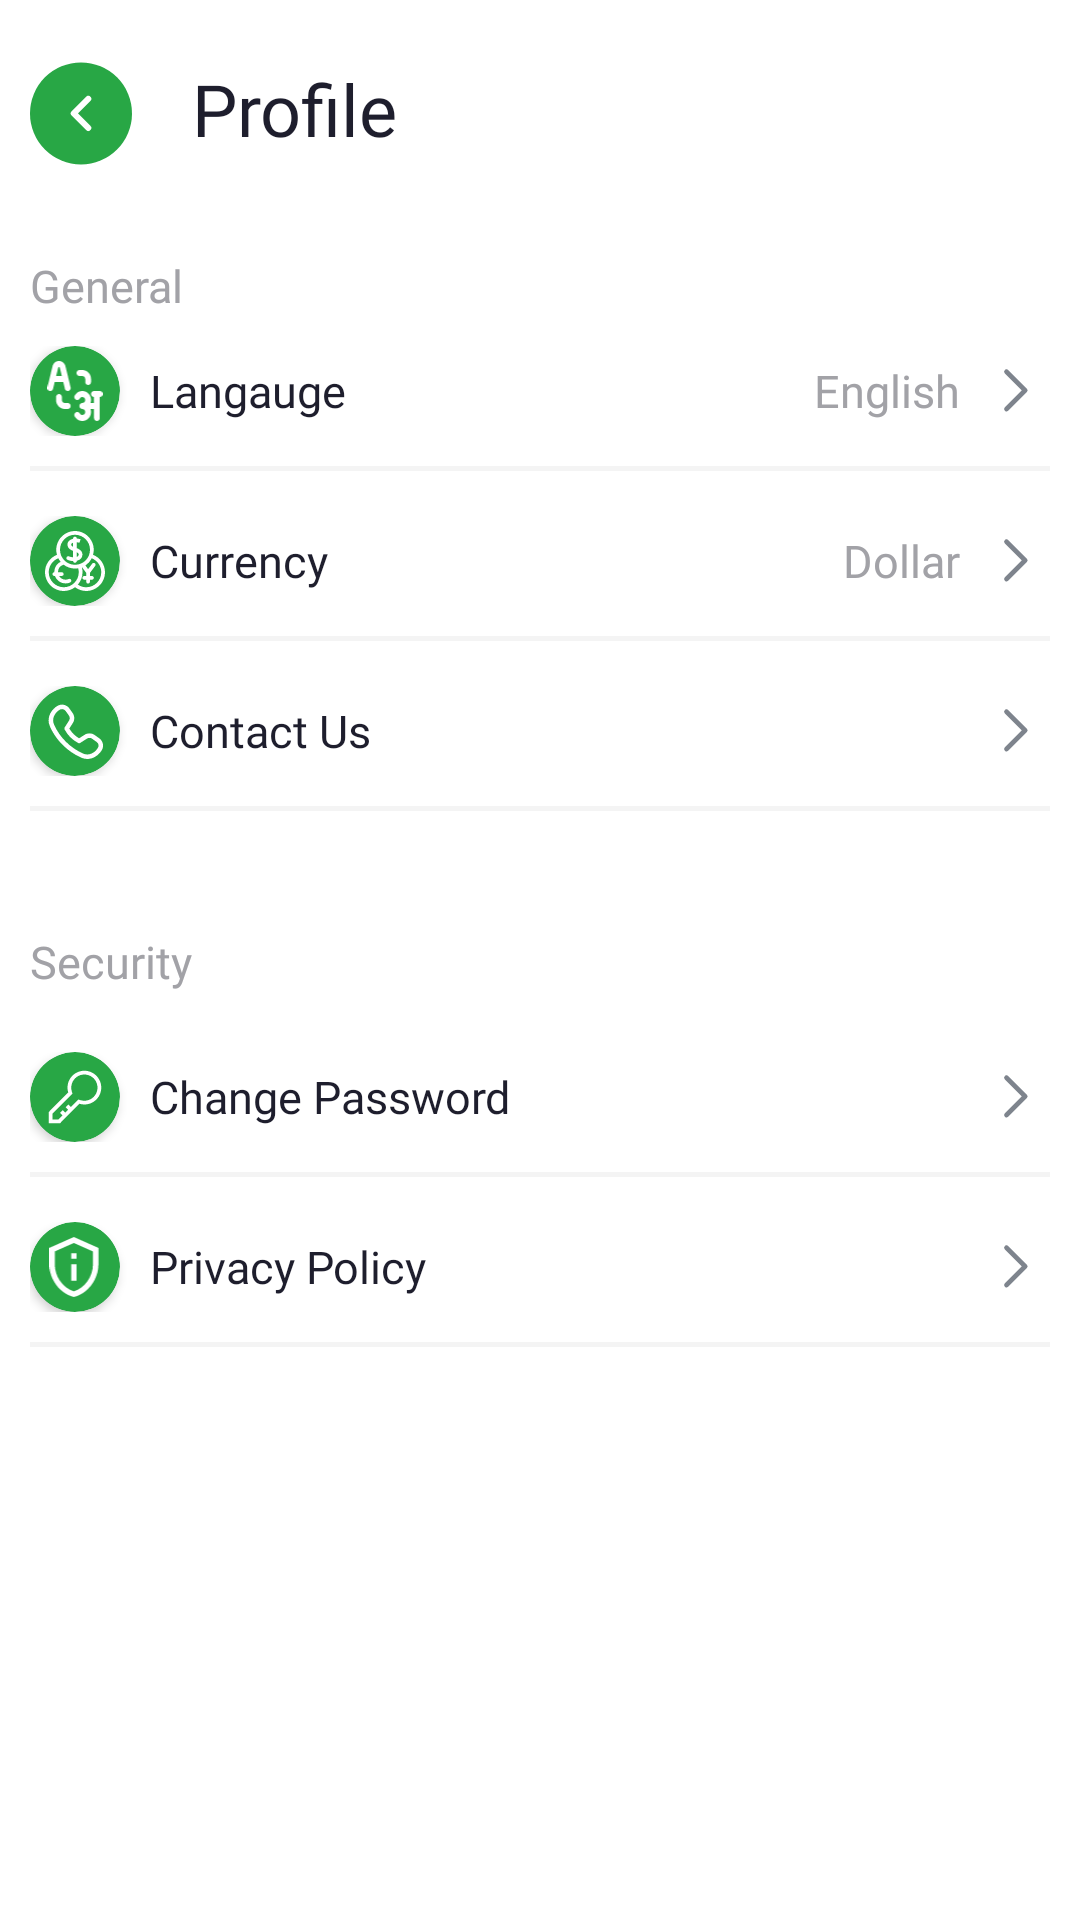

Icons on this 1080 x 1920 Android screen, each with its box as (x1, y1, x2, y2):
arrow: (1004, 369, 1028, 412), (1004, 539, 1028, 582), (1004, 709, 1028, 752), (1004, 1075, 1028, 1118), (1004, 1245, 1028, 1288)
back: (30, 62, 132, 165)
